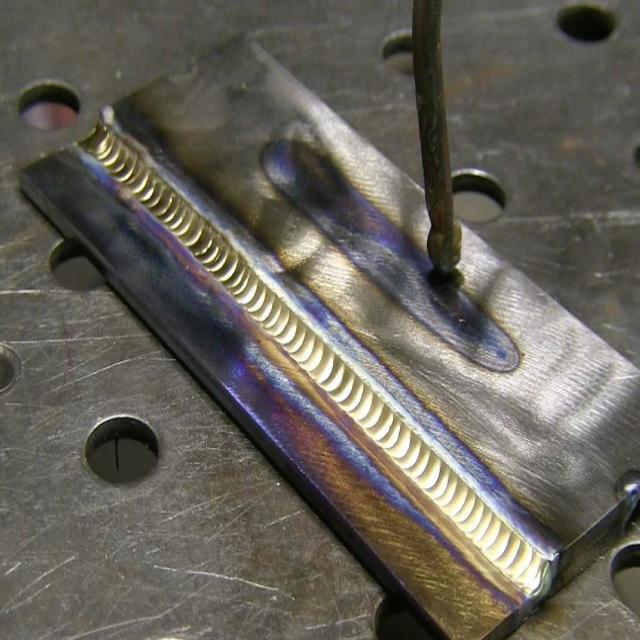Good Weld: (303, 368, 494, 539), (174, 228, 308, 354), (82, 136, 216, 212)
